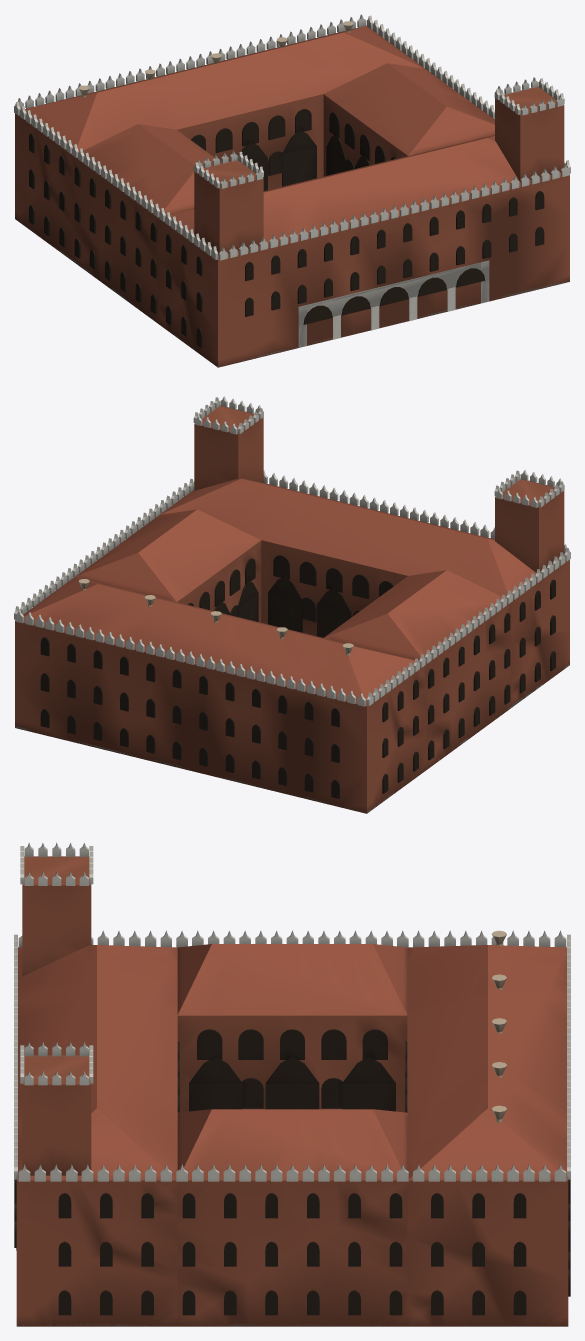
The model's file is fondaco-old.glb.
The picture shows the model from 3 angles, top to bottom: view 1: azimuth 30°, elevation 25°; view 2: azimuth 150°, elevation 25°; view 3: azimuth 270°, elevation 25°; orthographic projection. The views are drawn at different scales.
Visible parts, largest first — view 1: p2_roofs, p0_walls, p1_facades; view 2: p2_roofs, p0_walls, p1_facades; view 3: p2_roofs, p0_walls, p1_facades.
Part boxes in pixels (<box>): p2_roofs: <box>25,21,564,260</box>; p0_walls: <box>15,94,569,367</box>; p1_facades: <box>14,14,570,347</box>; p2_roofs: <box>23,396,564,706</box>; p0_walls: <box>15,540,569,813</box>; p1_facades: <box>14,470,570,798</box>; p2_roofs: <box>16,842,568,1180</box>; p0_walls: <box>16,1015,568,1326</box>; p1_facades: <box>14,930,570,1315</box>.
Bounding box in the file's own units: 48.45 × 24.24 × 48.45.
